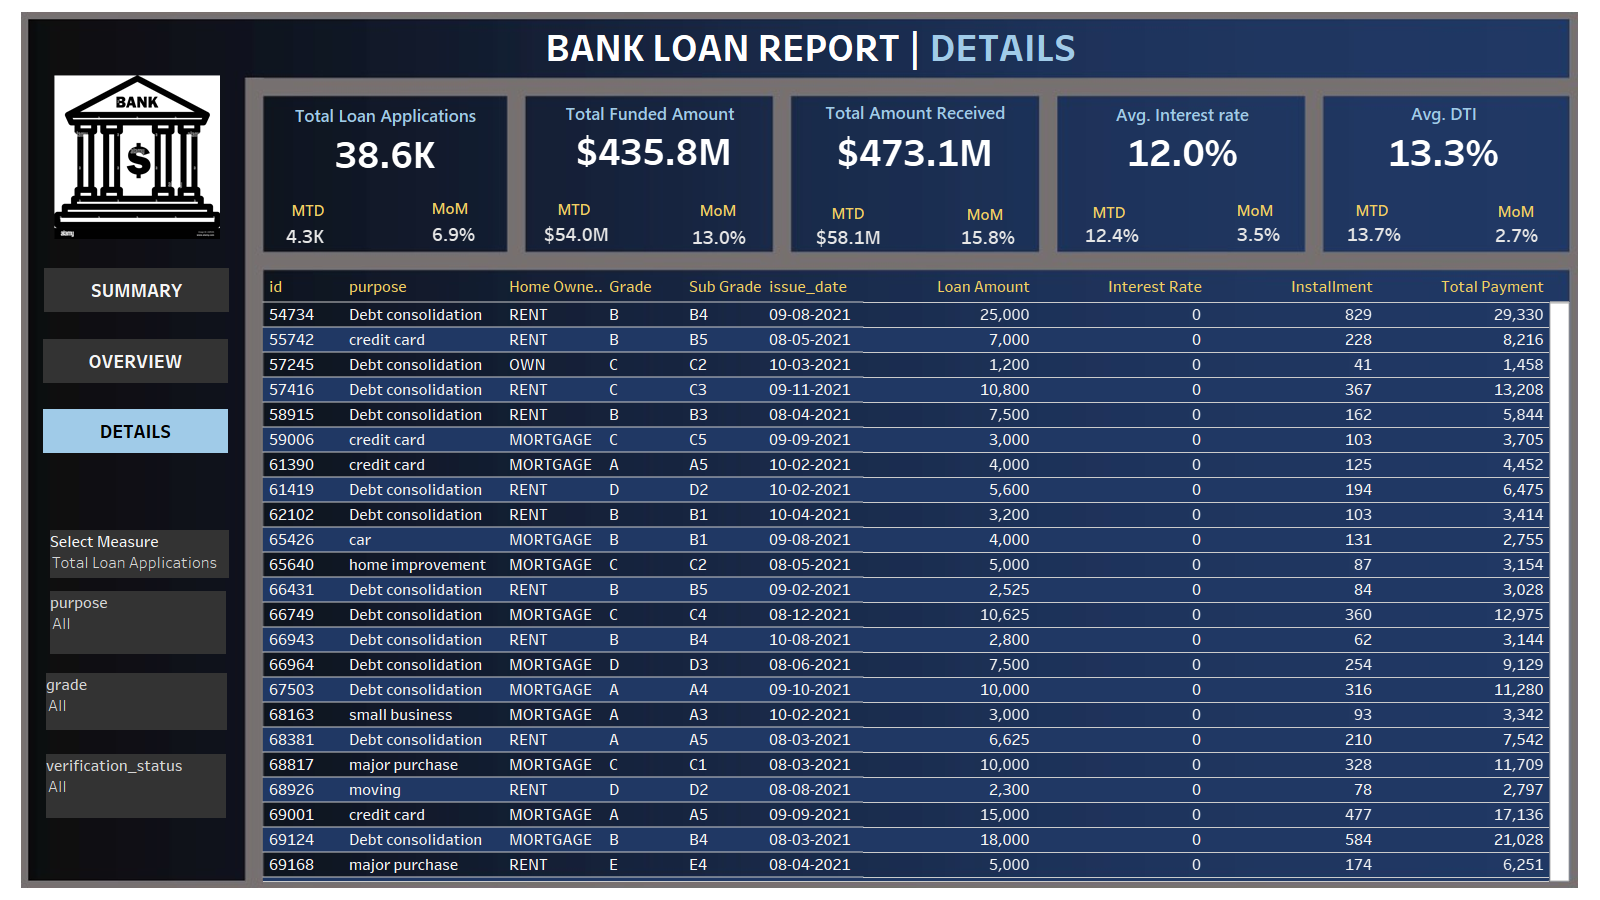

This screenshot's page, from the dashboard's own definition file:
{"tool":"tableau","page":{"name":"details","canvas":[1600,900],"ordinal":0},"visuals":[{"type":"image","param":"C:/Users/YASH SHARMA/Downloads/Tableau Background 3.jpg","box":[8,8,1584,884]},{"type":"text","box":[542,15,630,61]},{"type":"image","param":"C:/Users/YASH SHARMA/Downloads/bank-icon-2GPEXFJ.jpg","box":[41,75,192,164]},{"type":"worksheet","title":"Total Amount Received","mark":"Automatic","box":[792,95,247,74]},{"type":"worksheet","title":"Total Funded Amount","mark":"Automatic","box":[526,96,248,71]},{"type":"worksheet","title":"Avg. DTI","mark":"Automatic","box":[1319,96,250,72]},{"type":"worksheet","title":"Avg. Interest rate","mark":"Automatic","box":[1058,97,249,71]},{"type":"worksheet","title":"Total Loan Applications","mark":"Automatic","box":[263,98,245,72]},{"type":"text","box":[400,193,100,30]},{"type":"text","box":[524,194,100,30]},{"type":"text","box":[668,195,100,30]},{"type":"text","box":[1205,195,100,30]},{"type":"text","box":[1322,195,100,30]},{"type":"text","box":[263,196,90,27]},{"type":"text","box":[1466,196,100,30]},{"type":"text","box":[1059,197,100,30]},{"type":"text","box":[798,198,100,30]},{"type":"text","box":[935,199,100,30]},{"type":"worksheet","title":"MoM Avg Int Rate","mark":"Automatic","box":[1210,214,99,40]},{"type":"worksheet","title":"MoM Total Amount Received","mark":"Automatic","box":[943,215,91,45]},{"type":"worksheet","title":"MTD Total Amount Received","mark":"Automatic","box":[802,216,93,42]},{"type":"worksheet","title":"MTD Total Funded Amount","mark":"Automatic","box":[536,217,81,34]},{"type":"worksheet","title":"MoM Avg DTI","mark":"Automatic","box":[1468,217,98,37]},{"type":"worksheet","title":"MoM Loan Applications","mark":"Automatic","box":[421,218,67,33]},{"type":"worksheet","title":"MoM Total Funded Amount","mark":"Automatic","box":[679,218,80,39]},{"type":"worksheet","title":"MTD Total Loan Applications","mark":"Automatic","box":[254,219,102,34]},{"type":"worksheet","title":"MTD Avg Int Rate","mark":"Automatic","box":[1067,219,90,32]},{"type":"worksheet","title":"MTD Avg DTI","mark":"Automatic","box":[1332,219,85,30]},{"type":"dashboard-object","box":[44,268,185,44]},{"type":"worksheet","title":"DETAILS TAB","mark":"Automatic","rows":["id","purpose","home_ownership","grade","sub_grade","issue_date"],"box":[263,270,1307,612]},{"type":"dashboard-object","box":[43,339,185,44]},{"type":"dashboard-object","box":[43,409,185,44]},{"type":"parameter","param":"[Parameters].[Parameter 1]","box":[50,530,179,48]},{"type":"filter","title":"Avg. DTI","param":"[federated.17grwf20vej4w11bvqv6a1g31w7y].[none:purpose:nk]","box":[50,591,176,63]},{"type":"filter","title":"Avg. DTI","param":"[federated.17grwf20vej4w11bvqv6a1g31w7y].[none:grade:nk]","box":[46,673,181,57]},{"type":"filter","title":"Avg. DTI","param":"[federated.17grwf20vej4w11bvqv6a1g31w7y].[none:verification_status:nk]","box":[46,754,180,64]}]}

Visuals, with their boxes in screenshot pixels (x1, y1, x2, y2), scaled from the page's 1600x900 canvas onto the 1600x900 screenshot:
image: left=8, top=8, right=1592, bottom=892
text: left=542, top=15, right=1172, bottom=76
image: left=41, top=75, right=233, bottom=239
"Total Amount Received" worksheet: left=792, top=95, right=1039, bottom=169
"Total Funded Amount" worksheet: left=526, top=96, right=774, bottom=167
"Avg. DTI" worksheet: left=1319, top=96, right=1569, bottom=168
"Avg. Interest rate" worksheet: left=1058, top=97, right=1307, bottom=168
"Total Loan Applications" worksheet: left=263, top=98, right=508, bottom=170
text: left=400, top=193, right=500, bottom=223
text: left=524, top=194, right=624, bottom=224
text: left=668, top=195, right=768, bottom=225
text: left=1205, top=195, right=1305, bottom=225
text: left=1322, top=195, right=1422, bottom=225
text: left=263, top=196, right=353, bottom=223
text: left=1466, top=196, right=1566, bottom=226
text: left=1059, top=197, right=1159, bottom=227
text: left=798, top=198, right=898, bottom=228
text: left=935, top=199, right=1035, bottom=229
"MoM Avg Int Rate" worksheet: left=1210, top=214, right=1309, bottom=254
"MoM Total Amount Received" worksheet: left=943, top=215, right=1034, bottom=260
"MTD Total Amount Received" worksheet: left=802, top=216, right=895, bottom=258
"MTD Total Funded Amount" worksheet: left=536, top=217, right=617, bottom=251
"MoM Avg DTI" worksheet: left=1468, top=217, right=1566, bottom=254
"MoM Loan Applications" worksheet: left=421, top=218, right=488, bottom=251
"MoM Total Funded Amount" worksheet: left=679, top=218, right=759, bottom=257
"MTD Total Loan Applications" worksheet: left=254, top=219, right=356, bottom=253
"MTD Avg Int Rate" worksheet: left=1067, top=219, right=1157, bottom=251
"MTD Avg DTI" worksheet: left=1332, top=219, right=1417, bottom=249
dashboard-object: left=44, top=268, right=229, bottom=312
"DETAILS TAB" worksheet: left=263, top=270, right=1570, bottom=882
dashboard-object: left=43, top=339, right=228, bottom=383
dashboard-object: left=43, top=409, right=228, bottom=453
parameter: left=50, top=530, right=229, bottom=578
"Avg. DTI" filter: left=50, top=591, right=226, bottom=654
"Avg. DTI" filter: left=46, top=673, right=227, bottom=730
"Avg. DTI" filter: left=46, top=754, right=226, bottom=818
